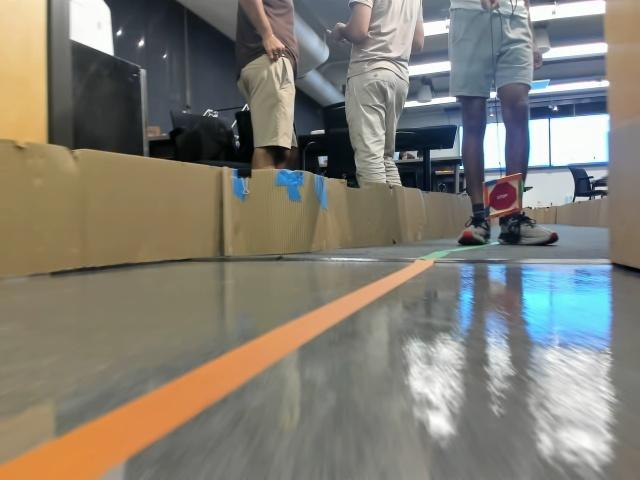Stop: (487, 185, 515, 211)
